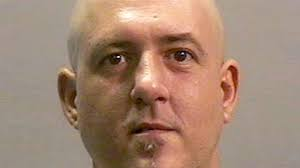white_male: (78, 27, 215, 168)
